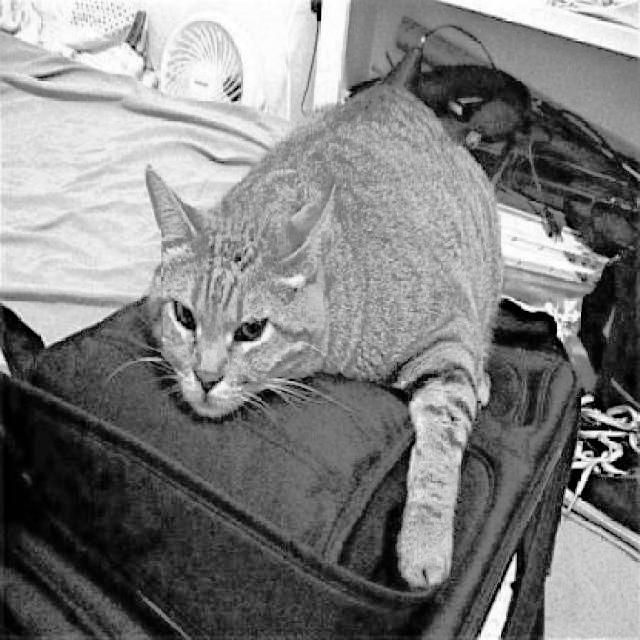Cat: (138, 75, 509, 594)
